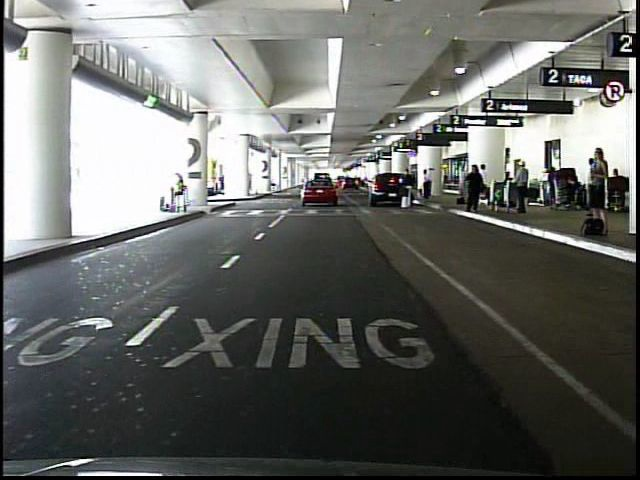person: (585, 146, 610, 219), (585, 158, 601, 216), (465, 162, 483, 212), (515, 160, 531, 215), (171, 172, 190, 217), (403, 170, 415, 214), (477, 162, 488, 203), (422, 168, 433, 202)
